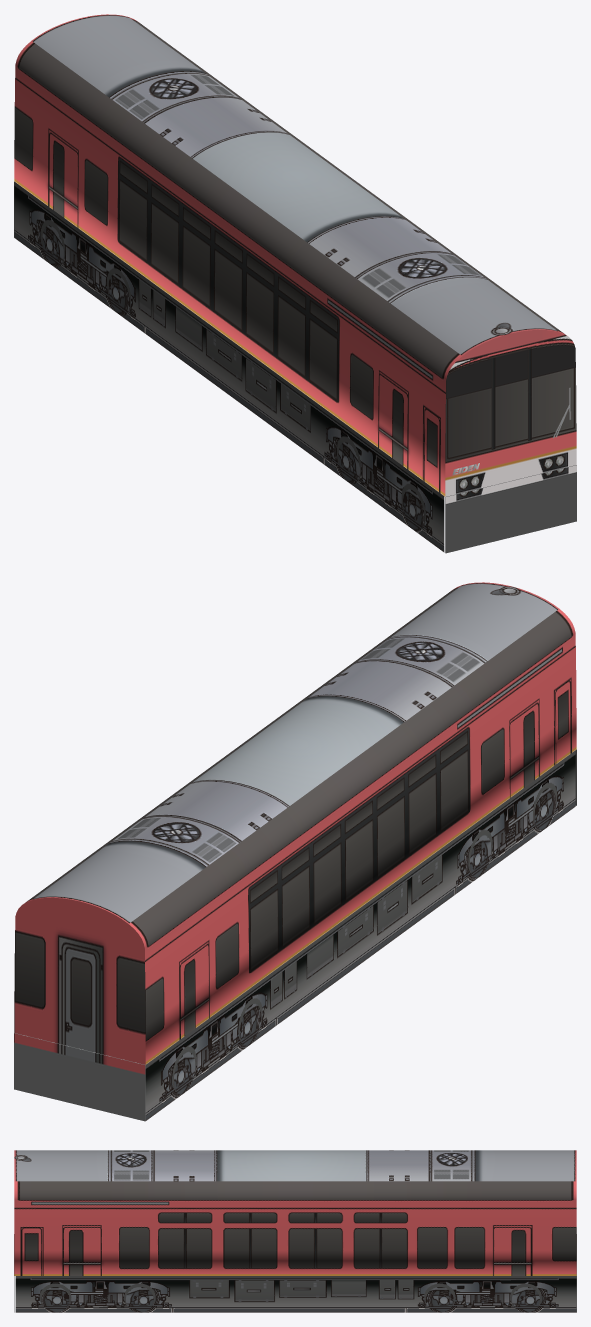
File: car1.glb
The picture shows the model from 3 angles, top to bottom: view 1: azimuth 30°, elevation 25°; view 2: azimuth 150°, elevation 25°; view 3: azimuth 270°, elevation 25°; orthographic projection. The views are drawn at different scales.
Parts seen in each view (by area): view 1: eizan-900-car1; view 2: eizan-900-car1; view 3: eizan-900-car1.
Part boxes in pixels (x1=…): eizan-900-car1: x1=14, y1=14, x2=576, y2=553; eizan-900-car1: x1=14, y1=582, x2=576, y2=1121; eizan-900-car1: x1=14, y1=1150, x2=576, y2=1312.
Size of the model in its own units: 2.69 by 3.98 by 15.3.
Materials: 9 (8 with a texture image).
